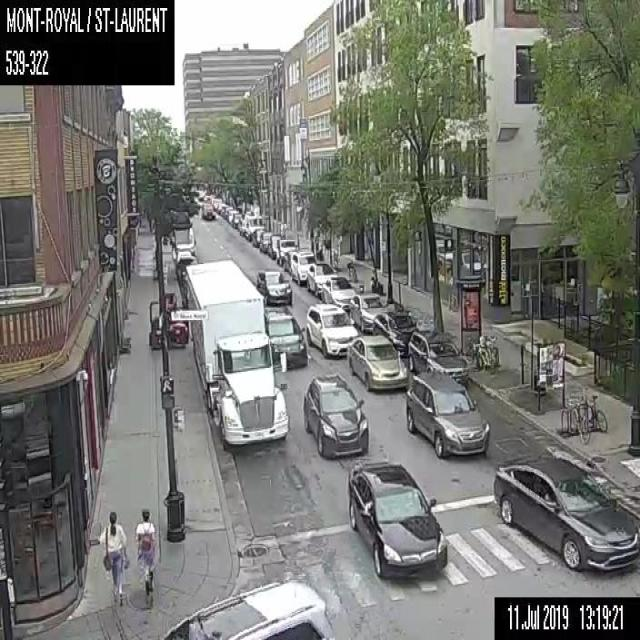pedestrian: (98, 509, 128, 602), (133, 509, 156, 607)
vehicle: (185, 258, 289, 450), (493, 455, 639, 569), (348, 459, 448, 577), (162, 576, 333, 639), (405, 372, 490, 458), (302, 372, 368, 456), (408, 328, 468, 387), (347, 334, 408, 391), (306, 302, 358, 358), (264, 306, 306, 367), (147, 290, 189, 349), (372, 311, 420, 355), (349, 292, 393, 332), (321, 276, 356, 310), (257, 270, 291, 304), (306, 262, 336, 296), (291, 248, 316, 284), (171, 226, 196, 260), (276, 238, 297, 265), (244, 213, 265, 240), (266, 234, 280, 258), (282, 248, 296, 272), (259, 230, 272, 252), (252, 228, 264, 246), (202, 201, 214, 218), (226, 208, 238, 222), (232, 212, 242, 227), (217, 202, 228, 214), (222, 205, 232, 218), (212, 196, 222, 208), (238, 218, 245, 234), (203, 195, 211, 202)
